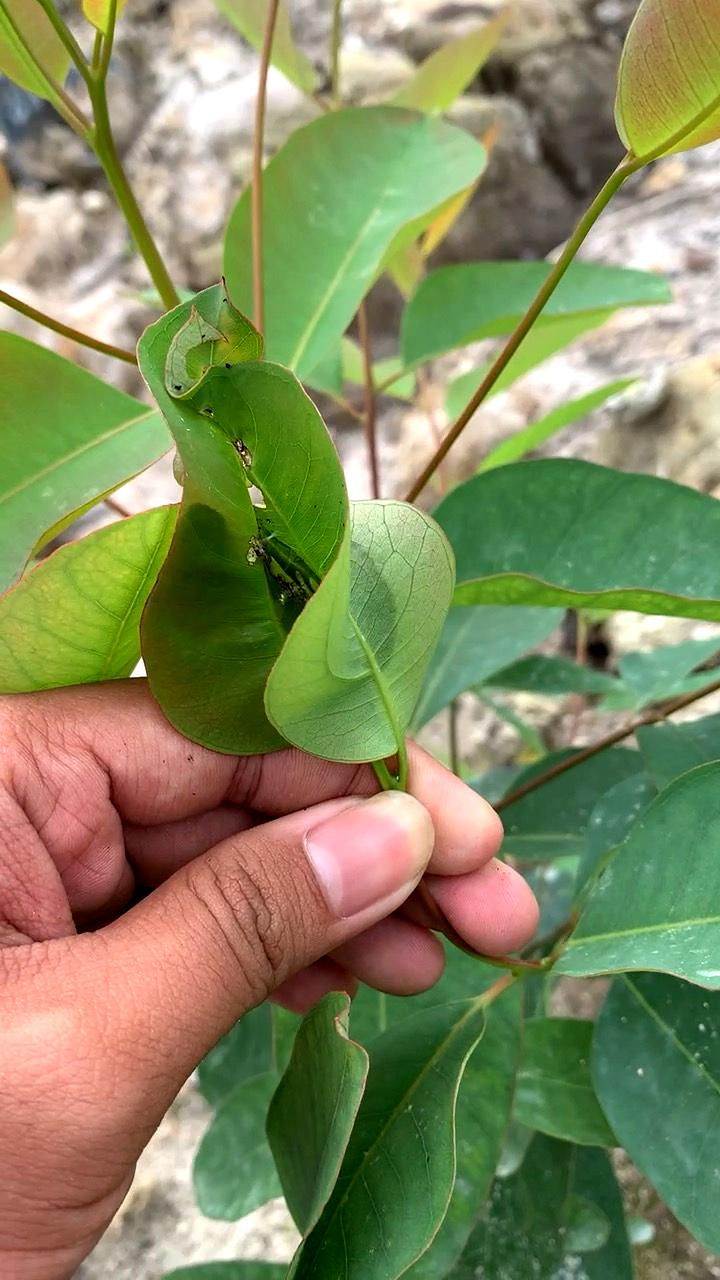Leaf Roller - Leaf: (113, 256, 506, 798)
